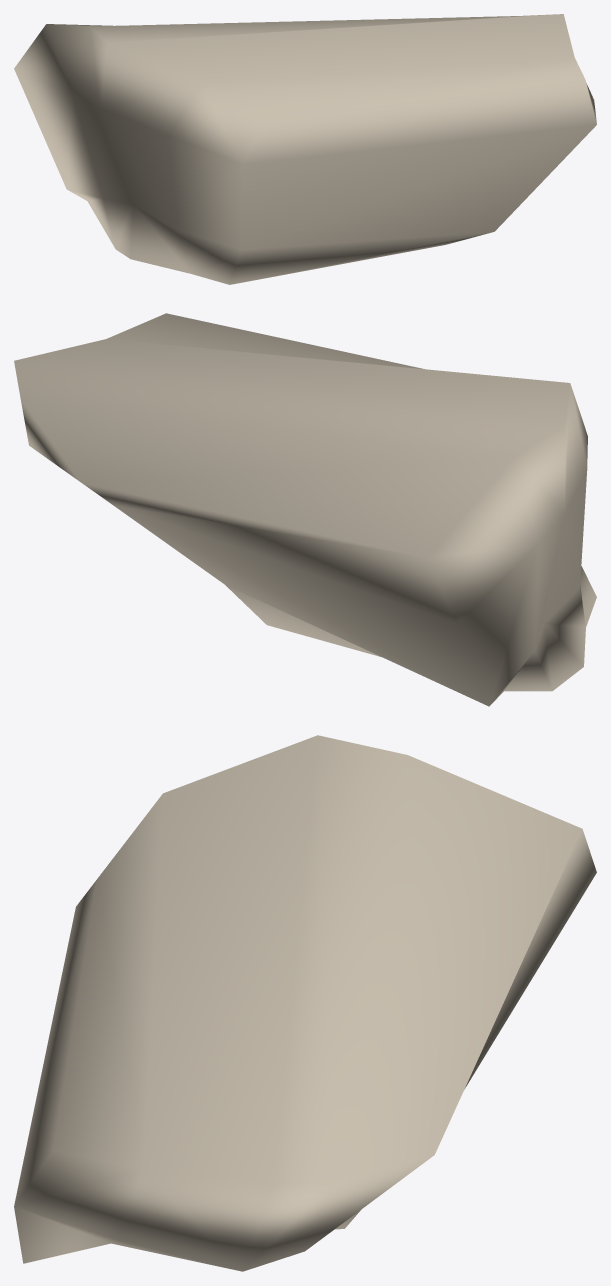
The model's file is rock06_v001.fbx.
3 renders of one model, top to bottom at view 1: azimuth 30°, elevation 25°; view 2: azimuth 150°, elevation 25°; view 3: azimuth 270°, elevation 25°, orthographic. The views are drawn at different scales.
Parts seen in each view (by area): view 1: pCube5; view 2: pCube5; view 3: pCube5.
Part boxes in pixels (<box>): pCube5: <box>14,14,596,284</box>; pCube5: <box>14,313,596,706</box>; pCube5: <box>14,735,596,1271</box>.
Size of the model in its own units: 161 by 71.4 by 114.
